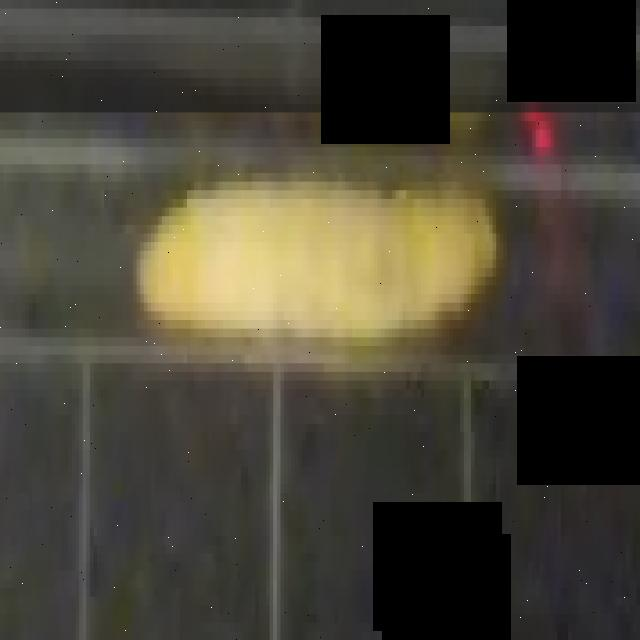larva: (131, 148, 501, 354)
